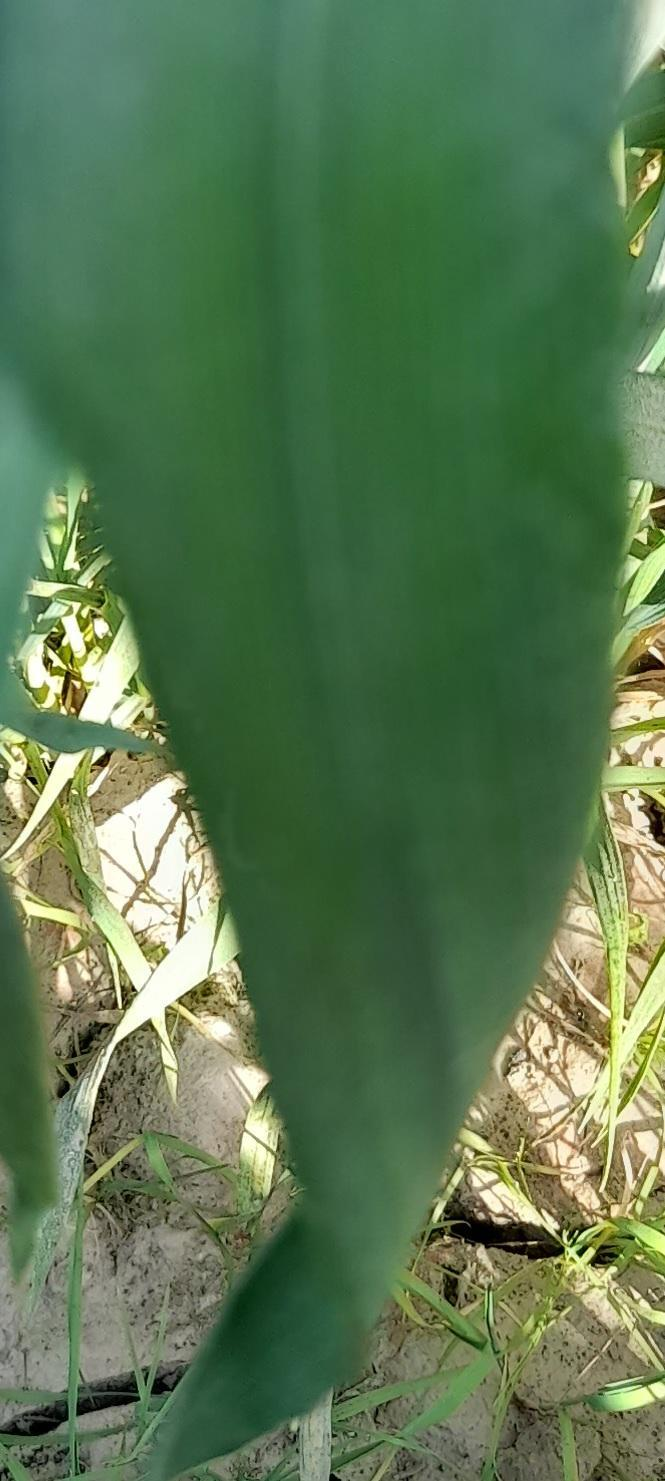Wheat: (101, 26, 606, 420), (179, 446, 580, 688), (253, 733, 520, 1018)
